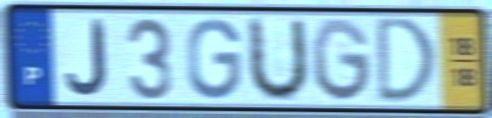3: (125, 15, 173, 101)
D: (375, 15, 439, 107)
G: (309, 15, 374, 106), (185, 15, 244, 102)
J: (63, 17, 109, 99)
U: (246, 14, 312, 106)
